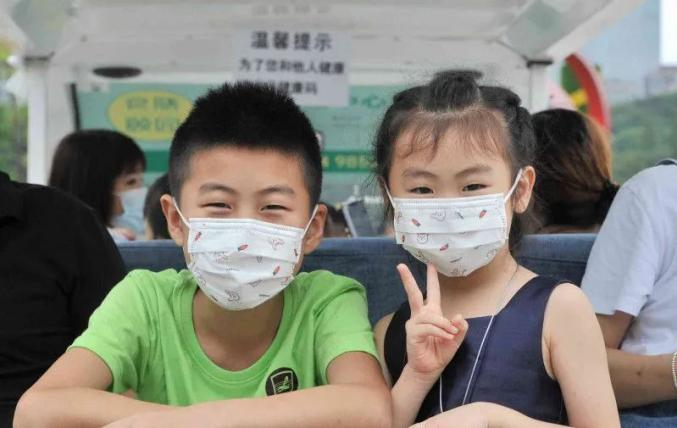mask: (177, 135, 322, 311), (387, 114, 517, 278)
